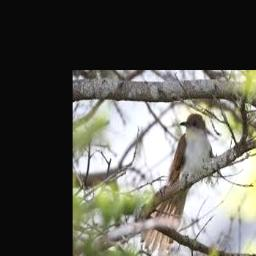Cuckoo: (140, 113, 213, 254)
